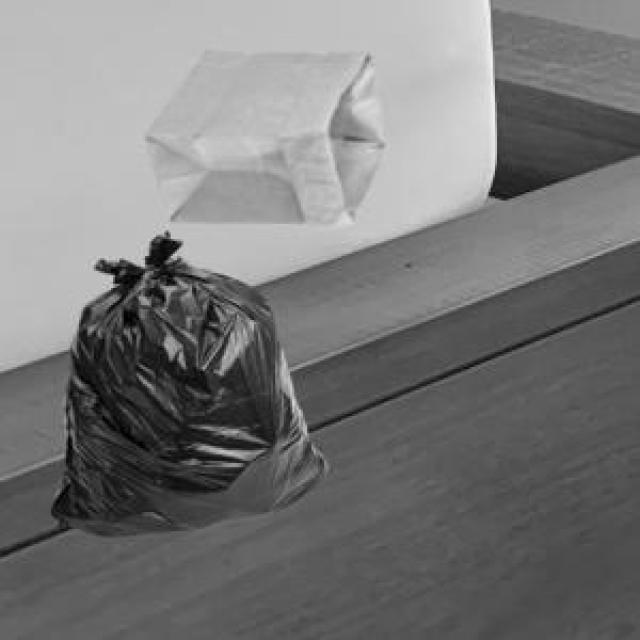miscellaneous trash: (47, 228, 322, 531)
paper: (141, 47, 380, 224)
